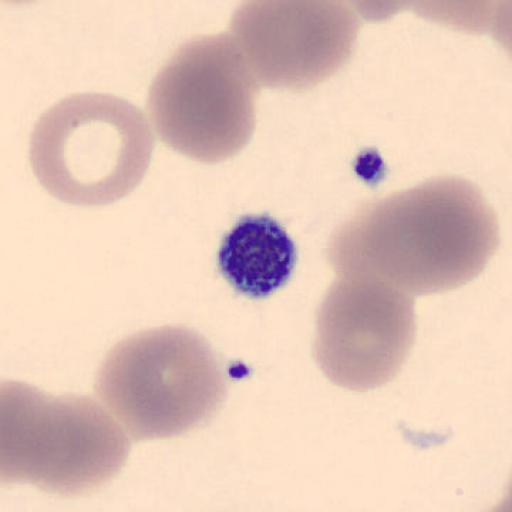Platelet: (214, 209, 302, 302)
RBC: (357, 174, 501, 296), (90, 322, 228, 442), (27, 90, 158, 210), (2, 378, 132, 498), (145, 31, 259, 166), (310, 275, 418, 394), (227, 0, 362, 93), (324, 205, 420, 308), (401, 0, 512, 37), (338, 0, 426, 24), (489, 0, 512, 55)
